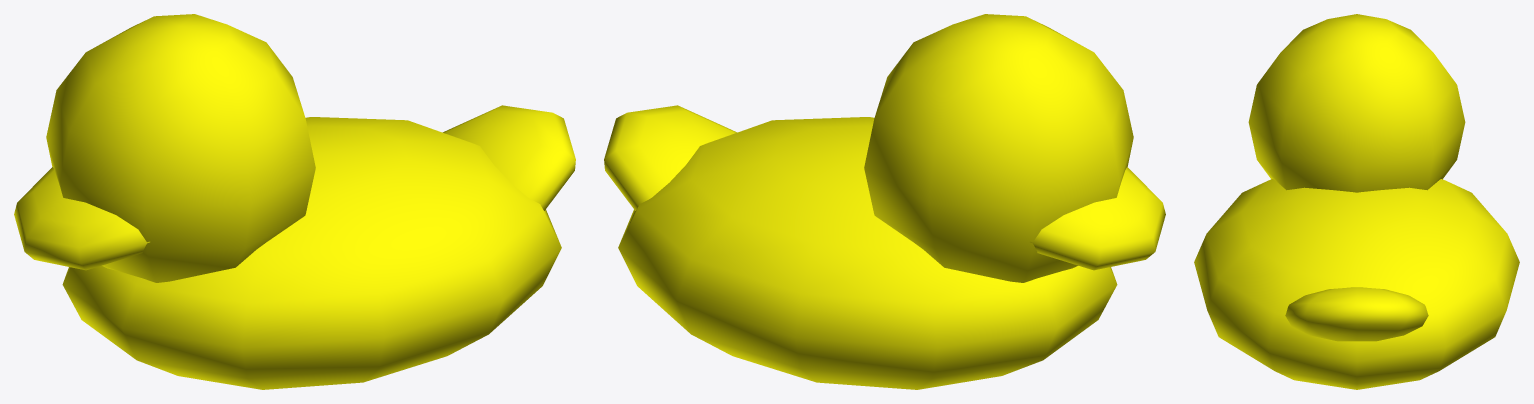
File: Ducky.fbx
3 renders of one model, left to right at view 1: azimuth 30°, elevation 25°; view 2: azimuth 150°, elevation 25°; view 3: azimuth 270°, elevation 25°, orthographic. The views are drawn at different scales.
Parts seen in each view (by area): view 1: Ducky; view 2: Ducky; view 3: Ducky.
Part boxes in pixels (x1=…): Ducky: x1=14, y1=14, x2=575, y2=389; Ducky: x1=604, y1=14, x2=1165, y2=389; Ducky: x1=1194, y1=14, x2=1519, y2=389.
Bounding box in the file's own units: 11.11 × 7.03 × 7.49.
